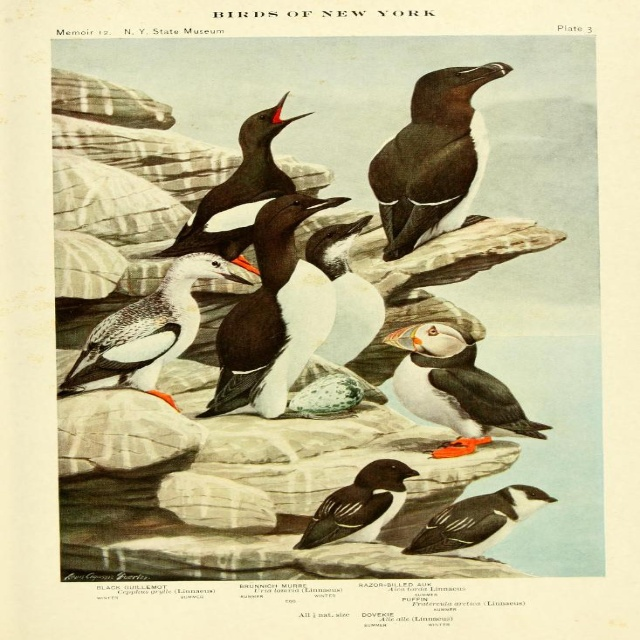Penguin: (347, 62, 526, 253)
